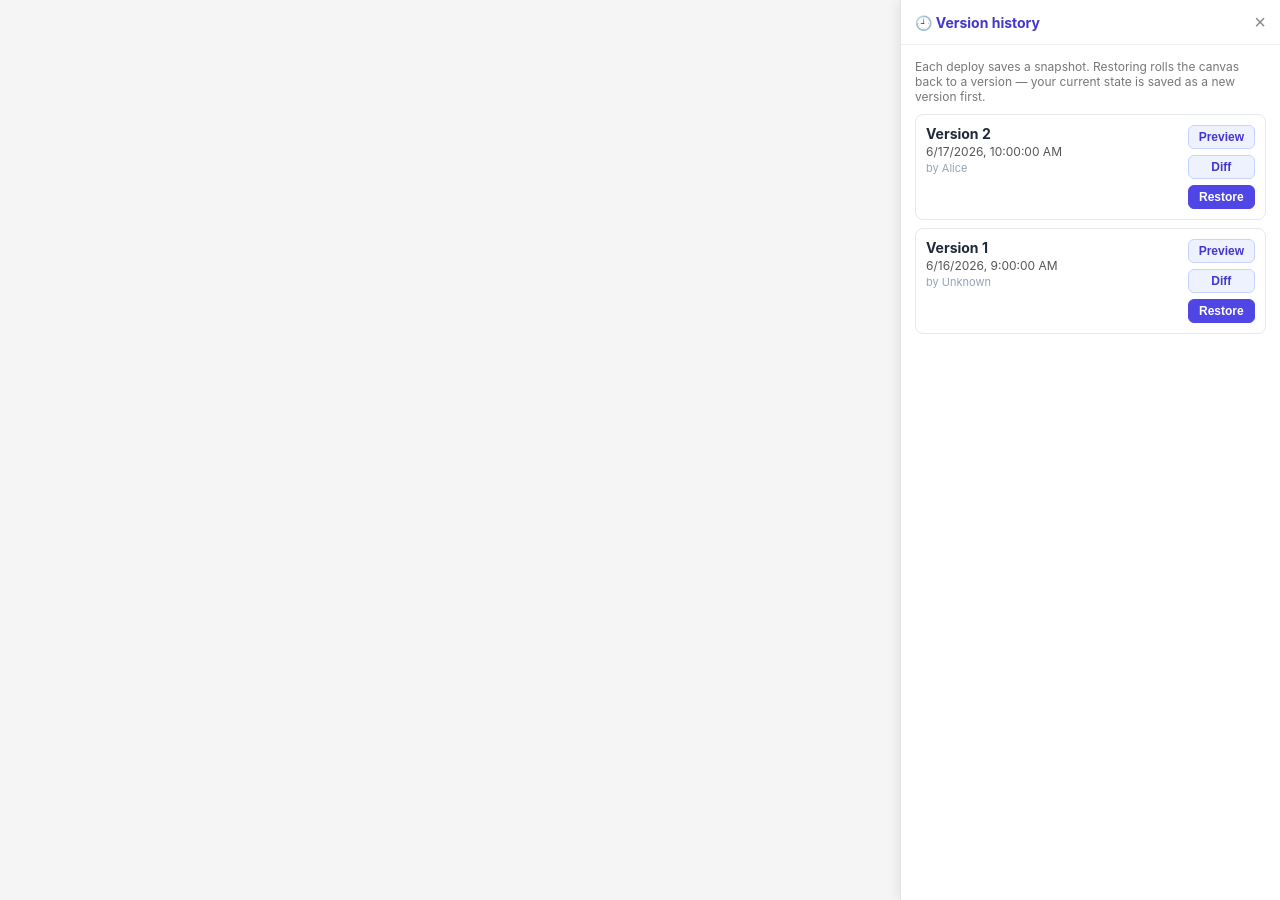
Test: HistoryPanel › asks for confirmation with the exact rollback message before restoring
expect the text "Version 2" is shown: met, box [926,125,991,142]
Click the button "Restore" below "Alice" at (1221, 197), box [1188,185,1255,209]
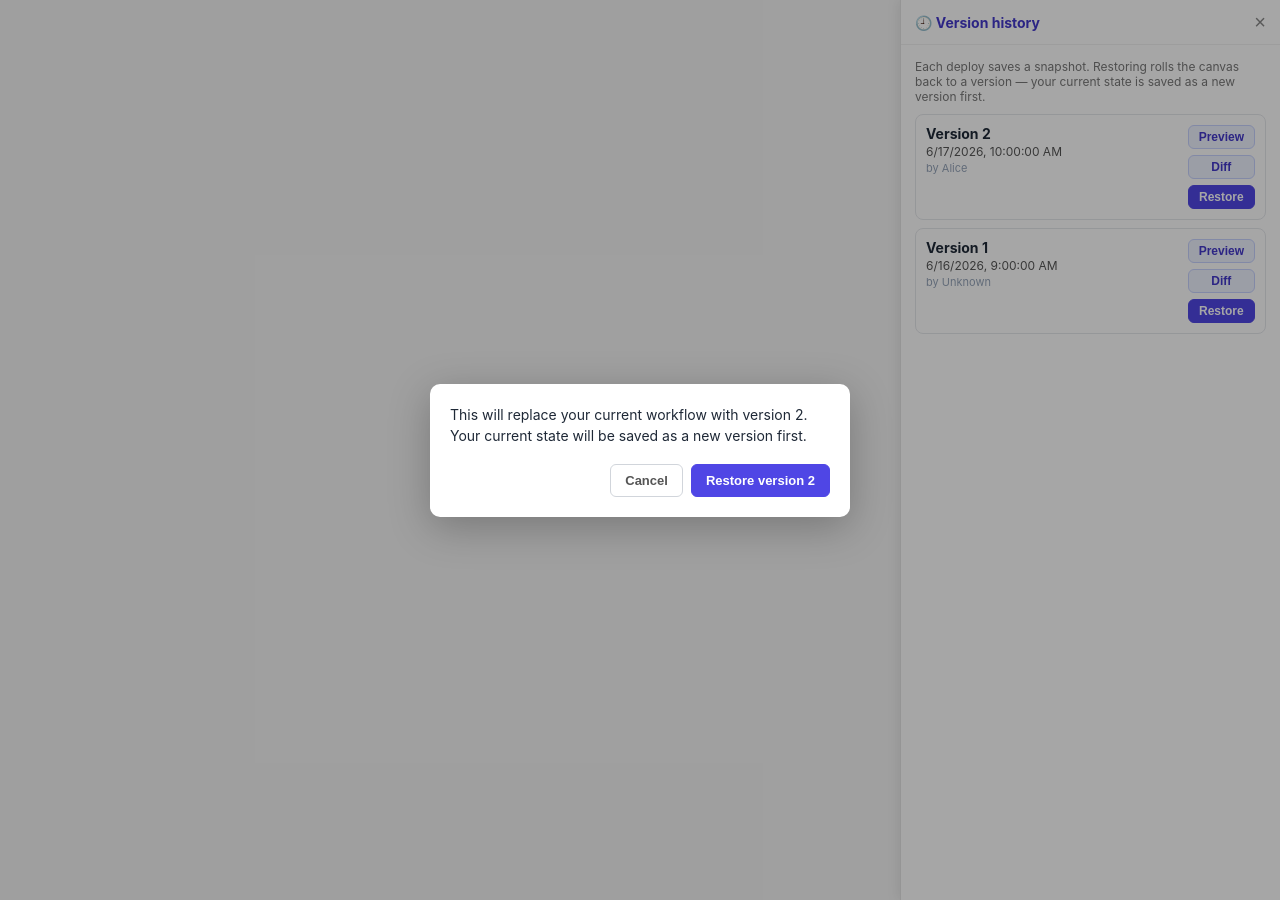
expect the text "This will replace your current workflow with version 2. Your current state will be saved as a new version first." is shown: met, box [450,404,830,446]
